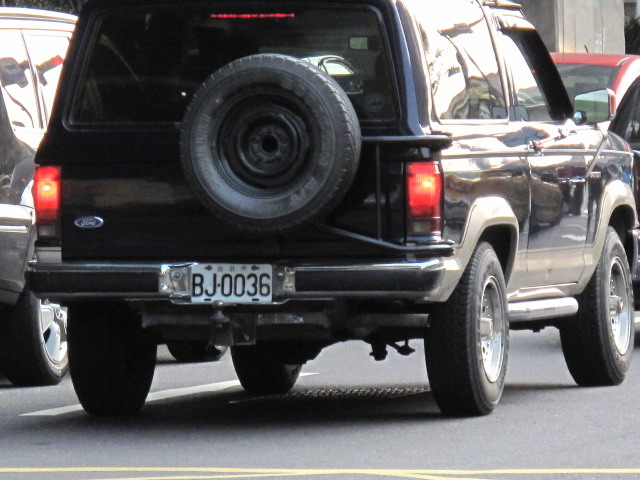plate: (187, 263, 276, 304)
